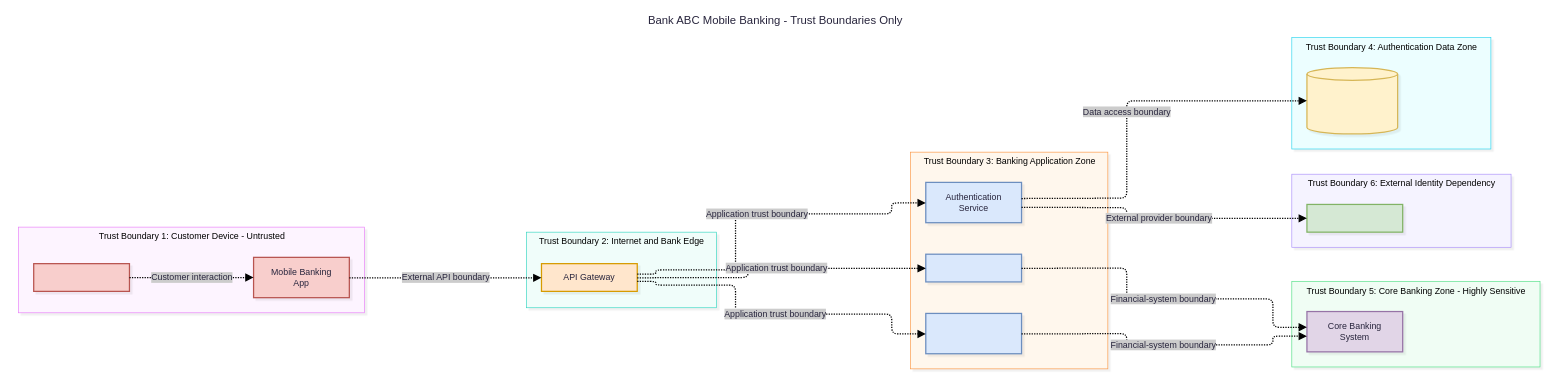
The diagram is 1554 pixels wide and 382 high, and some of its shapes have lost their labels. Here are the shapes that lost their labels. From the top down, the centre of each, then its label:
(x=1353, y=102): Mobile Login Database
(x=1356, y=219): MFA Provider
(x=82, y=278): Bank Customer
(x=974, y=269): Balance Service
(x=974, y=334): Funds Transfer Service
